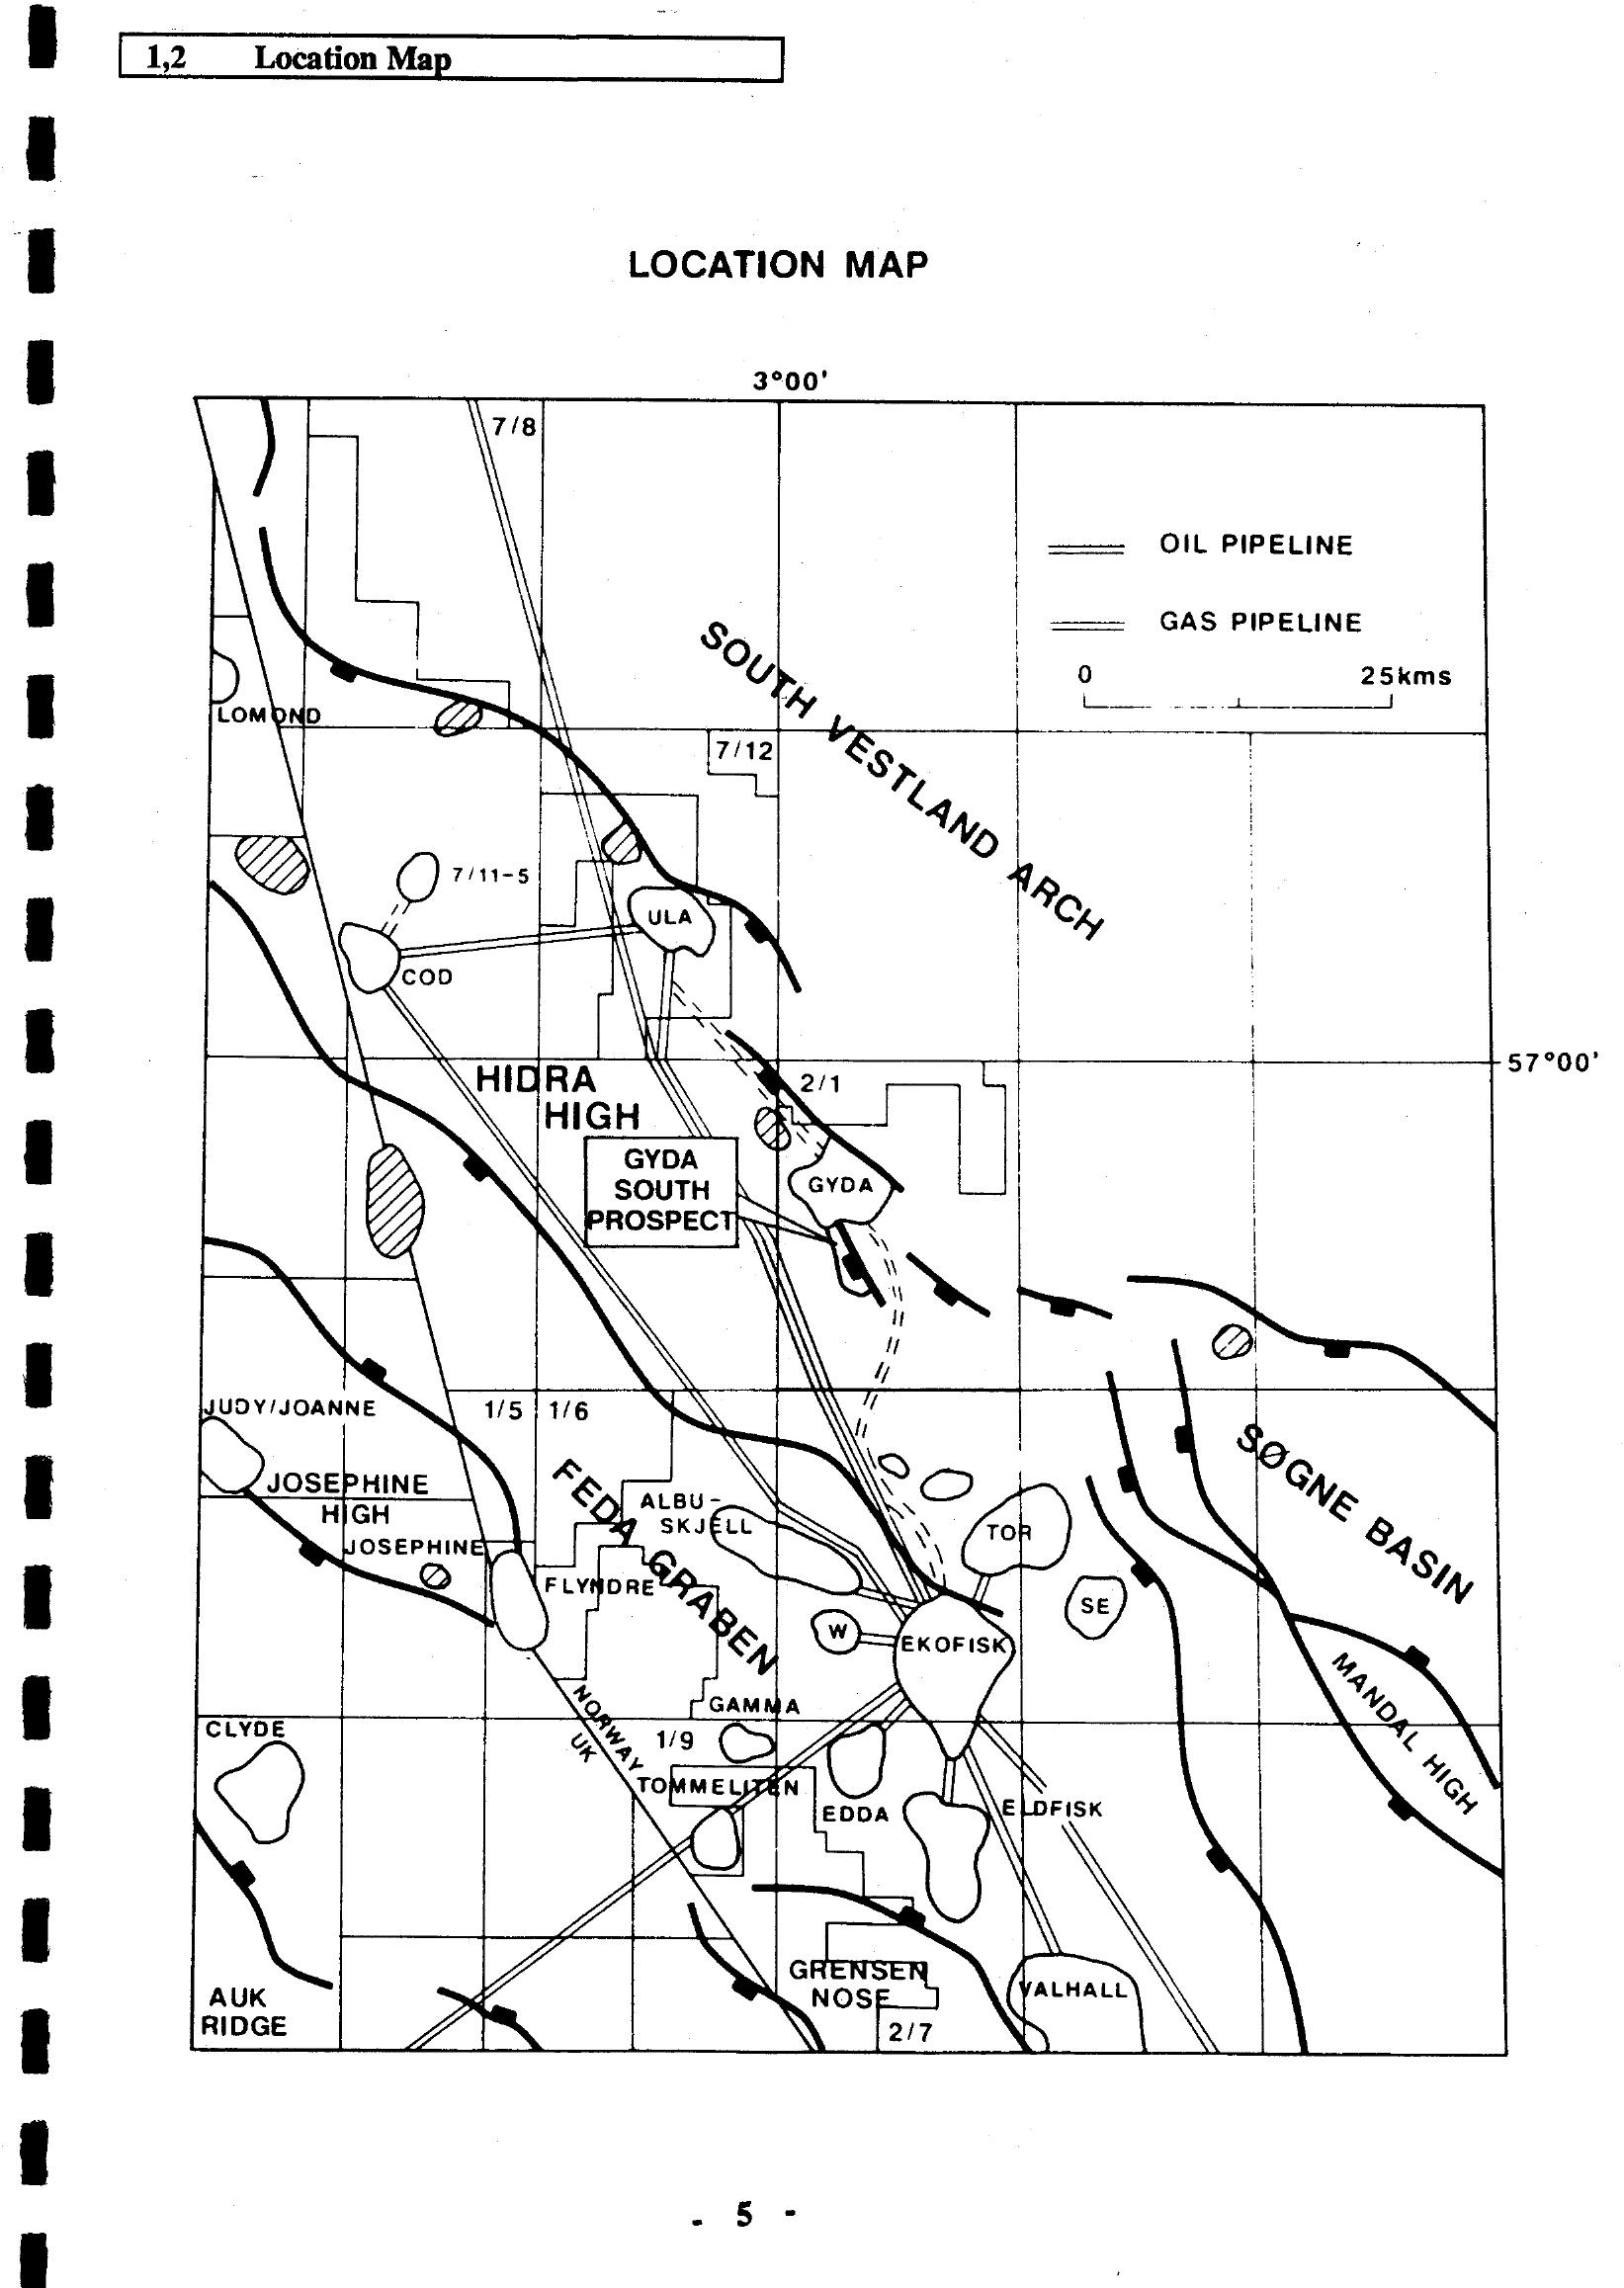graph: (137, 358, 1603, 2107)
text: (606, 218, 988, 308)
